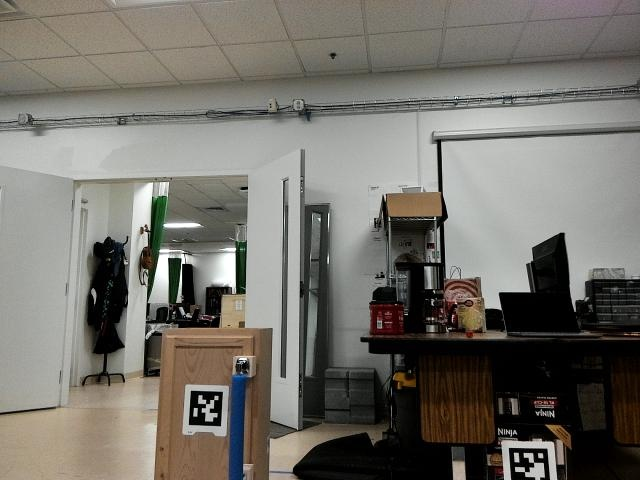noodle_handle: (229, 363, 248, 480)
